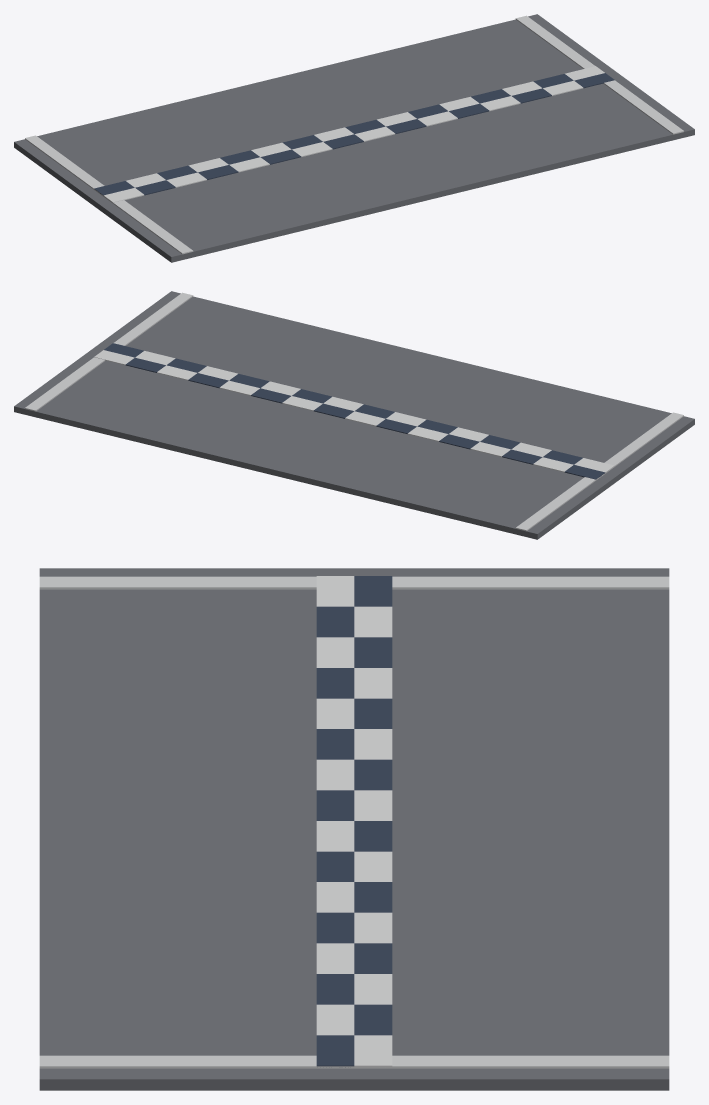
The model's file is road_start.glb.
The picture shows the model from 3 angles, top to bottom: view 1: azimuth 30°, elevation 25°; view 2: azimuth 150°, elevation 25°; view 3: azimuth 270°, elevation 25°; orthographic projection. The views are drawn at different scales.
Parts seen in each view (by area): view 1: line; view 2: line; view 3: line.
Boxes of the visible parts, <box> form: line: <box>14,14,694,262</box>; line: <box>14,291,694,539</box>; line: <box>39,568,669,1090</box>.
Size of the model in its own units: 12 by 0.1562 by 6.25.
